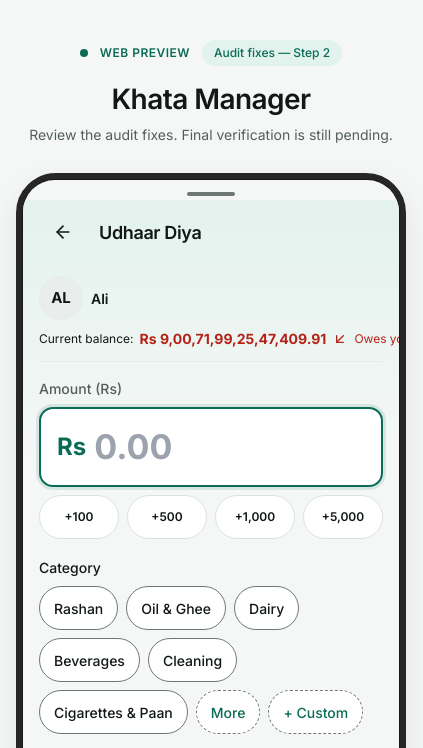
Scenario: a huge accepted balance shows an entry-specific range warning and blocks an unsafe projected save
Step 1. Type "0.01" into the field labelled "Amount (Rs)" → (230, 447), box [94,421,365,473]
(page scrolled)
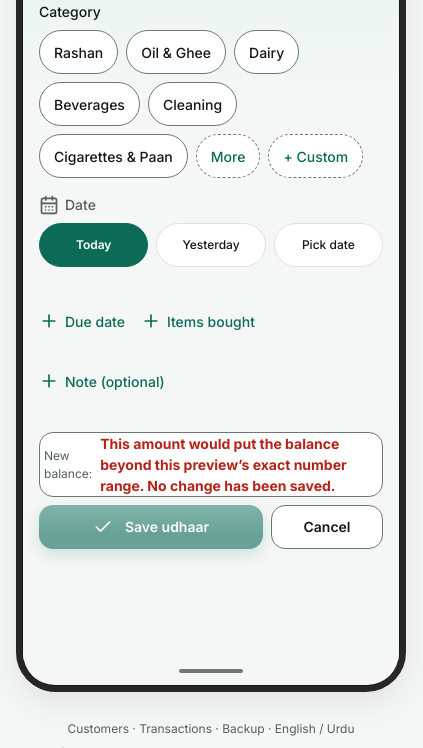
Result: the text "This amount would put the balance beyond this preview’s exact number range. No change has been saved." is shown at [100,435,347,494]
Result: the button "Save udhaar" is disabled at [39,505,263,549]
